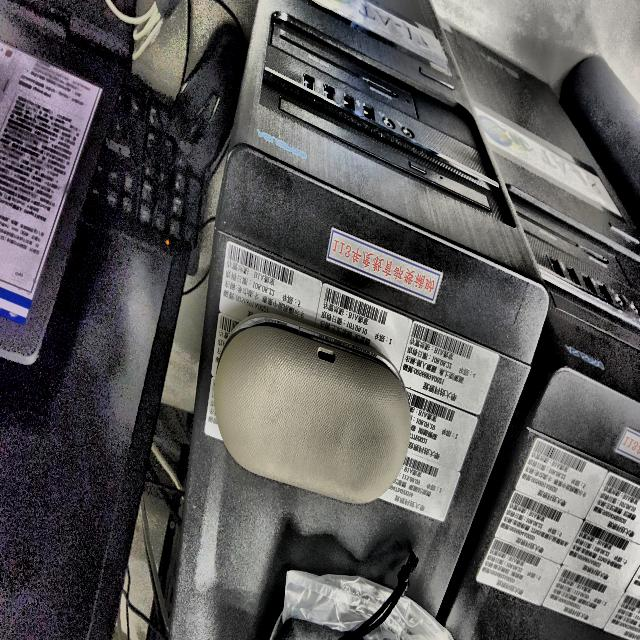Bluetooth headphones: (212, 315, 411, 503)
Keyboard: (83, 81, 202, 275)
Laptop: (0, 0, 132, 364)
MOUSE: (169, 24, 248, 173)
Screen: (0, 223, 188, 640)
